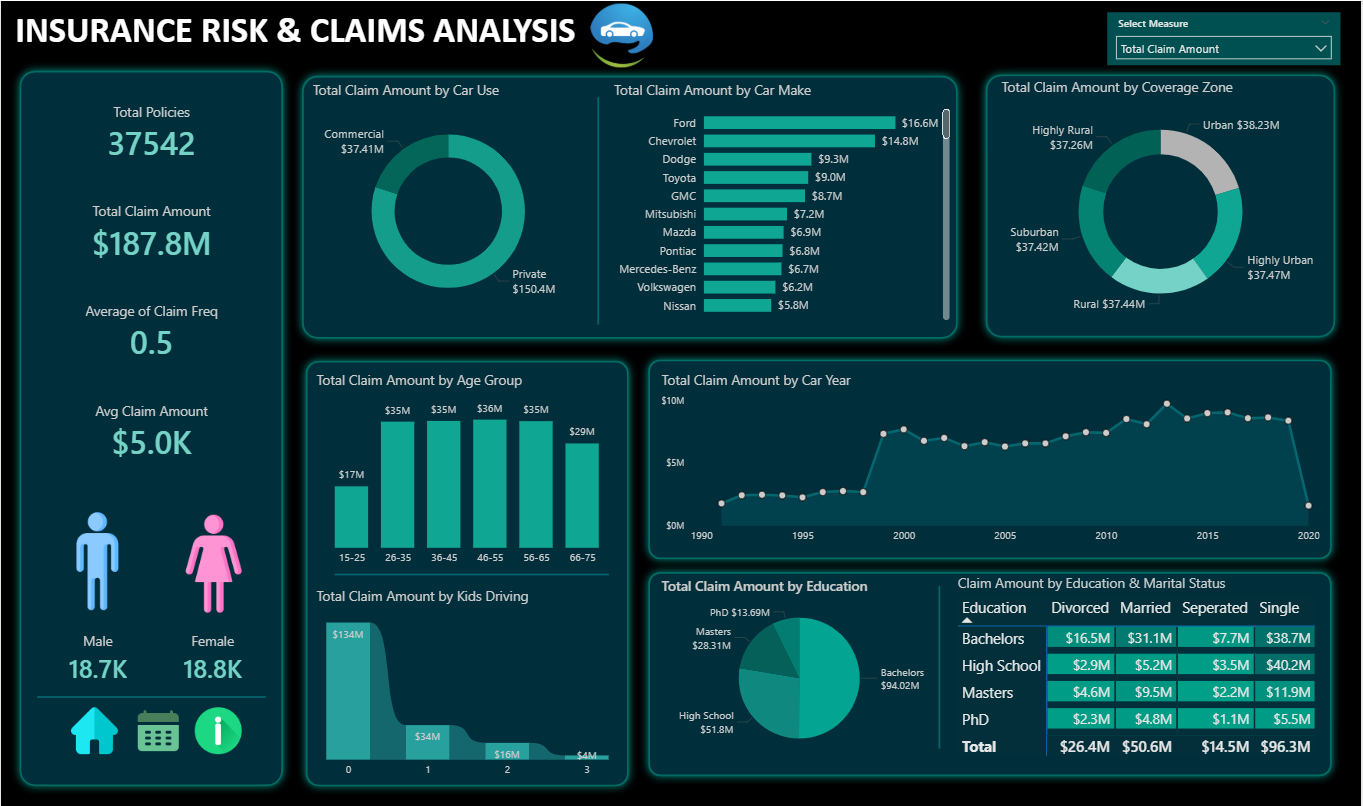

The dashboard page shown, as its layout file describes it:
{"tool":"powerbi","page":{"name":"Page 1","canvas":[1600,950],"ordinal":0},"visuals":[{"type":"textbox","box":[11.7,3.3,678.3,66.7],"z":0},{"type":"shape","box":[11.7,71.7,330,861.7],"z":1000},{"type":"cardVisual","fields":{"Data":["insurance_data_car.Total Policies","insurance_data_car.Total ClaimAmt","Avg(insurance_data_car.Claim Freq)","insurance_data_car.Avg ClaimAmt"]},"box":[42.9,101.2,269.3,459.7],"z":2000},{"type":"cardVisual","fields":{"Data":["insurance_data_car.Male Count","insurance_data_car.female Count"]},"box":[51.5,717,260.7,109.8],"z":3000},{"type":"image","box":[56.6,602.1,114.9,114.9],"z":4000},{"type":"image","box":[192.1,603.8,114.9,114.9],"z":5000},{"type":"slicer","fields":{"Values":["Select Measure.Select Measure"]},"box":[1301.7,13.8,274.1,62.1],"z":6000},{"type":"shape","box":[344.8,77.6,791.4,329.3],"z":7000},{"type":"donutChart","fields":{"Y":["insurance_data_car.Total Claim Amount"],"Category":["insurance_data_car.Car Use"]},"box":[362.1,93.1,329.3,287.9],"z":8000},{"type":"clusteredBarChart","fields":{"Y":["insurance_data_car.Total Claim Amount"],"Category":["insurance_data_car.Car Make"]},"box":[715.5,93.1,405.2,287.9],"z":9000},{"type":"shape","box":[1148.3,75.9,431,329.3],"z":10000},{"type":"donutChart","fields":{"Y":["insurance_data_car.Total Claim Amount"],"Category":["insurance_data_car.Coverage Zone"]},"box":[1172.4,89.7,384.5,294.8],"z":11000},{"type":"shape","box":[348.3,413.8,400,520.7],"z":12000},{"type":"clusteredColumnChart","fields":{"Y":["insurance_data_car.Total Claim Amount"],"Category":["insurance_data_car.Age Group"]},"box":[365.5,434.5,365.5,239.7],"z":13000},{"type":"ribbonChart","fields":{"Y":["insurance_data_car.Total Claim Amount"],"Category":["insurance_data_car.Kids Driving"]},"box":[365.5,687.9,365.5,234.5],"z":14000},{"type":"shape","box":[751.7,412.1,824.1,255],"z":15000},{"type":"areaChart","fields":{"Y":["insurance_data_car.Total Claim Amount"],"Category":["insurance_data_car.Car Year"]},"box":[772.4,434.5,784.5,213.8],"z":16000},{"type":"shape","box":[751.7,662.1,824.1,260.3],"z":17000},{"type":"pieChart","fields":{"Y":["insurance_data_car.Total Claim Amount"],"Category":["insurance_data_car.Education"]},"box":[772.4,675.9,334.5,219],"z":18000},{"type":"pivotTable","title":"Claim Amount by Education & Marital Status ","fields":{"Rows":["insurance_data_car.Education"],"Columns":["insurance_data_car.Marital Status"],"Values":["insurance_data_car.Total Claim Amount"]},"box":[1120.7,674.1,436.2,220.7],"z":19000},{"type":"shape","box":[689.7,113.8,25.9,267.2],"z":20000},{"type":"shape","box":[1086.2,687.9,34.5,191.4],"z":21000},{"type":"shape","box":[393.1,662.1,322.4,25.9],"z":22000},{"type":"shape","box":[43.1,805.2,269,25.9],"z":23000},{"type":"image","box":[82.8,831,55,55],"z":24000},{"type":"image","box":[156.9,831,55.2,55.2],"z":25000},{"type":"image","box":[227.6,831,55.2,55.2],"z":26000},{"type":"image","box":[675,3.3,110,75],"z":26001}]}

Visuals, with their boxes in screenshot pixels (x1, y1, x2, y2), scaled from the page's 1600x950 canvas onto the 1363x806 screenshot:
textbox: bbox=(10, 3, 588, 59)
shape: bbox=(10, 61, 291, 792)
cardVisual - insurance_data_car.Total Policies x insurance_data_car.Total ClaimAmt: bbox=(37, 86, 266, 476)
cardVisual - insurance_data_car.Male Count x insurance_data_car.female Count: bbox=(44, 608, 266, 701)
image: bbox=(48, 511, 146, 608)
image: bbox=(164, 512, 262, 610)
slicer - Select Measure.Select Measure: bbox=(1109, 12, 1342, 64)
shape: bbox=(294, 66, 968, 345)
donutChart - insurance_data_car.Total Claim Amount x insurance_data_car.Car Use: bbox=(308, 79, 589, 323)
clusteredBarChart - insurance_data_car.Total Claim Amount x insurance_data_car.Car Make: bbox=(610, 79, 955, 323)
shape: bbox=(978, 64, 1345, 344)
donutChart - insurance_data_car.Total Claim Amount x insurance_data_car.Coverage Zone: bbox=(999, 76, 1326, 326)
shape: bbox=(297, 351, 637, 793)
clusteredColumnChart - insurance_data_car.Total Claim Amount x insurance_data_car.Age Group: bbox=(311, 369, 623, 572)
ribbonChart - insurance_data_car.Total Claim Amount x insurance_data_car.Kids Driving: bbox=(311, 584, 623, 783)
shape: bbox=(640, 350, 1342, 566)
areaChart - insurance_data_car.Total Claim Amount x insurance_data_car.Car Year: bbox=(658, 369, 1326, 550)
shape: bbox=(640, 562, 1342, 783)
pieChart - insurance_data_car.Total Claim Amount x insurance_data_car.Education: bbox=(658, 573, 943, 759)
"Claim Amount by Education & Marital Status " pivotTable: bbox=(955, 572, 1326, 759)
shape: bbox=(588, 97, 610, 323)
shape: bbox=(925, 584, 955, 746)
shape: bbox=(335, 562, 610, 584)
shape: bbox=(37, 683, 266, 705)
image: bbox=(71, 705, 117, 752)
image: bbox=(134, 705, 181, 752)
image: bbox=(194, 705, 241, 752)
image: bbox=(575, 3, 669, 66)
